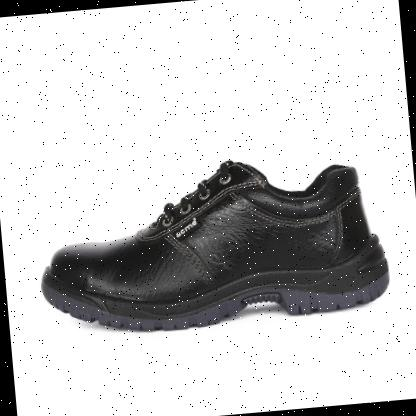bota: (29, 144, 398, 346)
